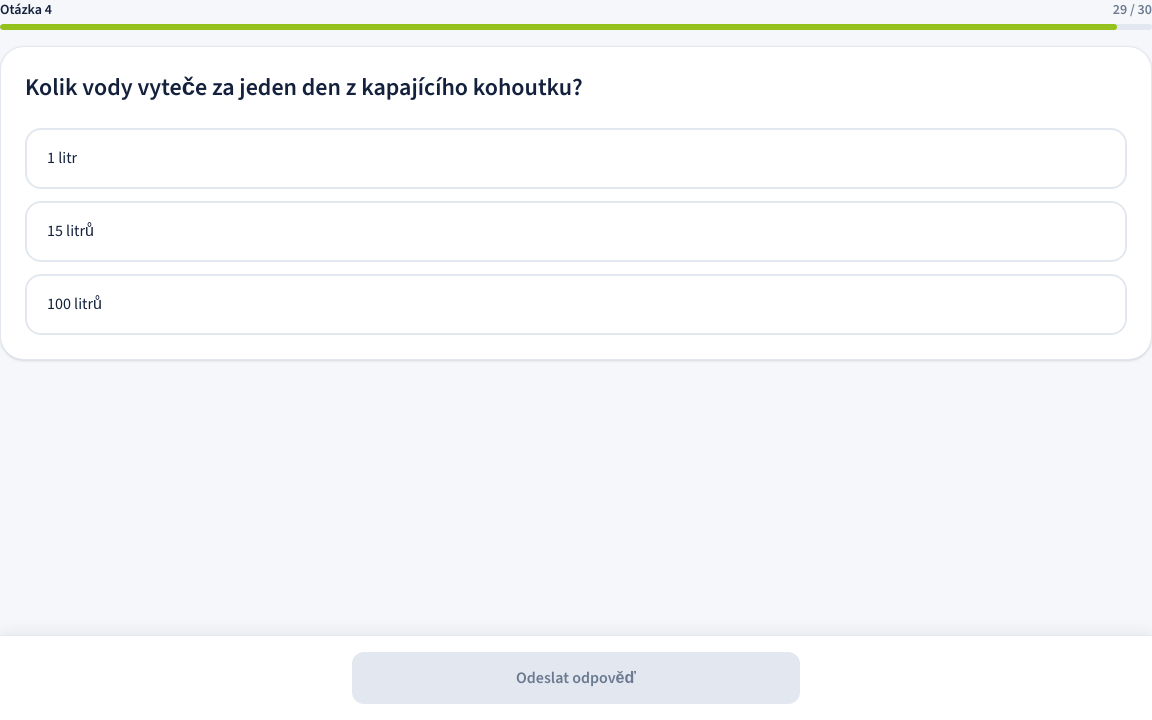
Test case: QuestionView › shows the completion message instead of the per-question hint once the last question is answered
Step 1. Click the radio button "1 litr" → (62, 158), box [25, 128, 1127, 189]
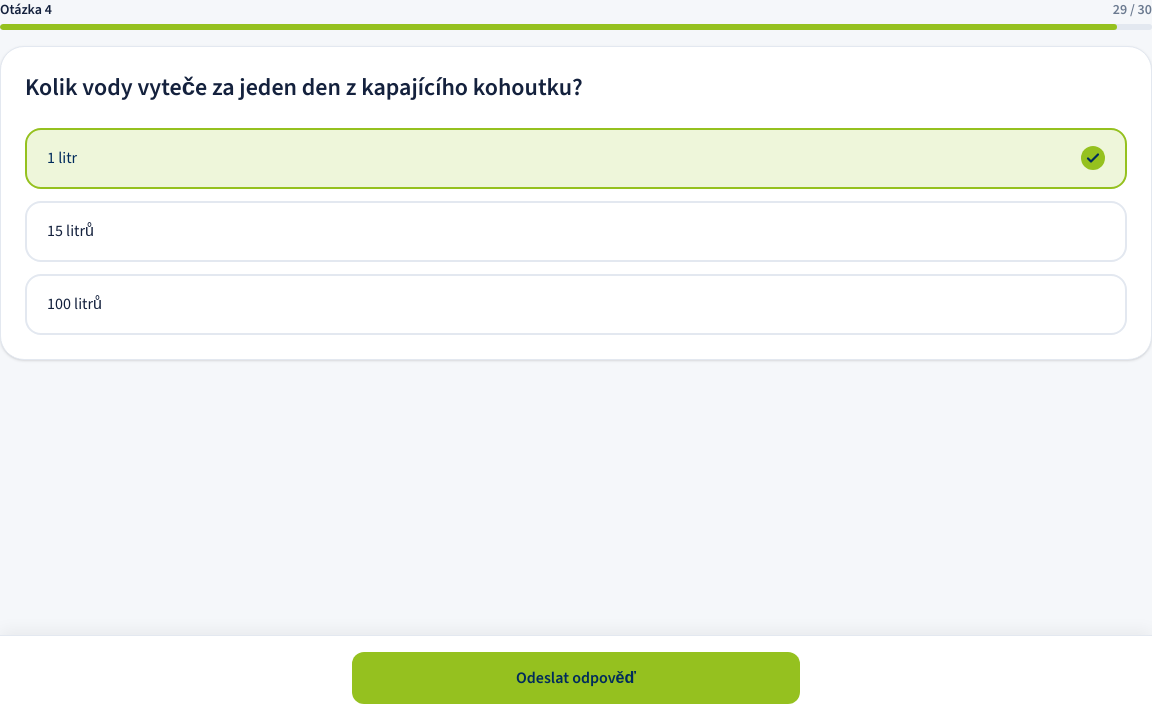
Step 2. Click the button "Odeslat odpověď" → (576, 678), box [352, 652, 800, 704]
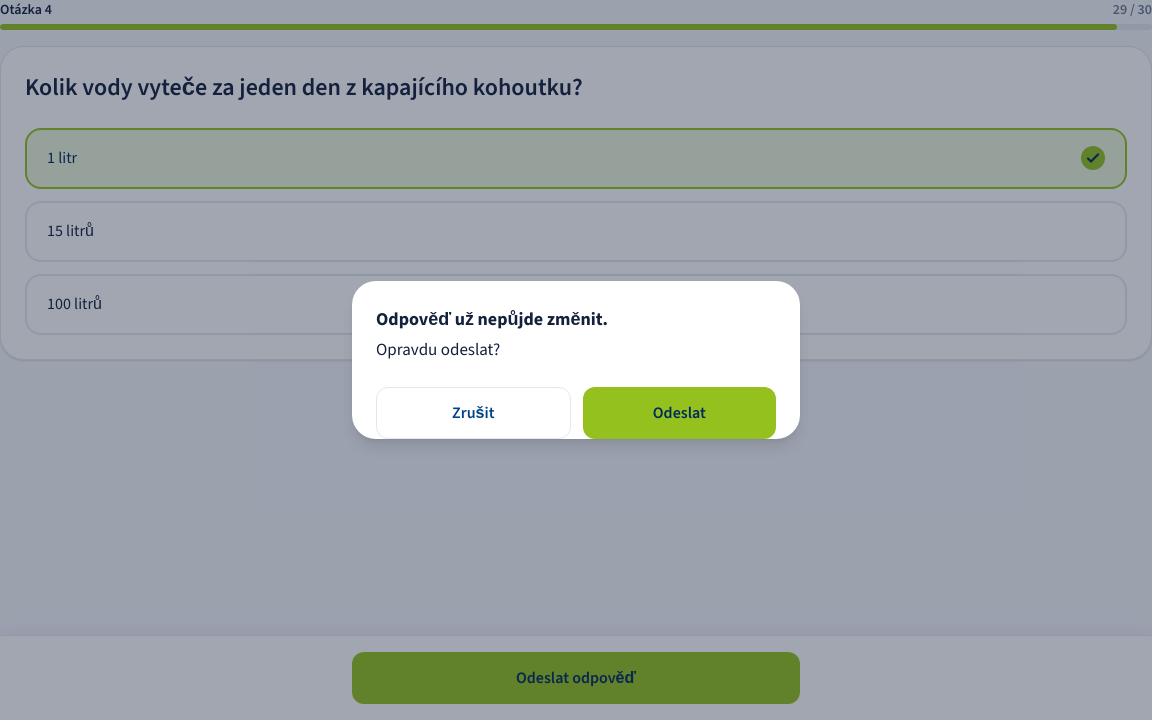
Step 3. Click the button "Odeslat" → (679, 413), box [583, 387, 776, 439]
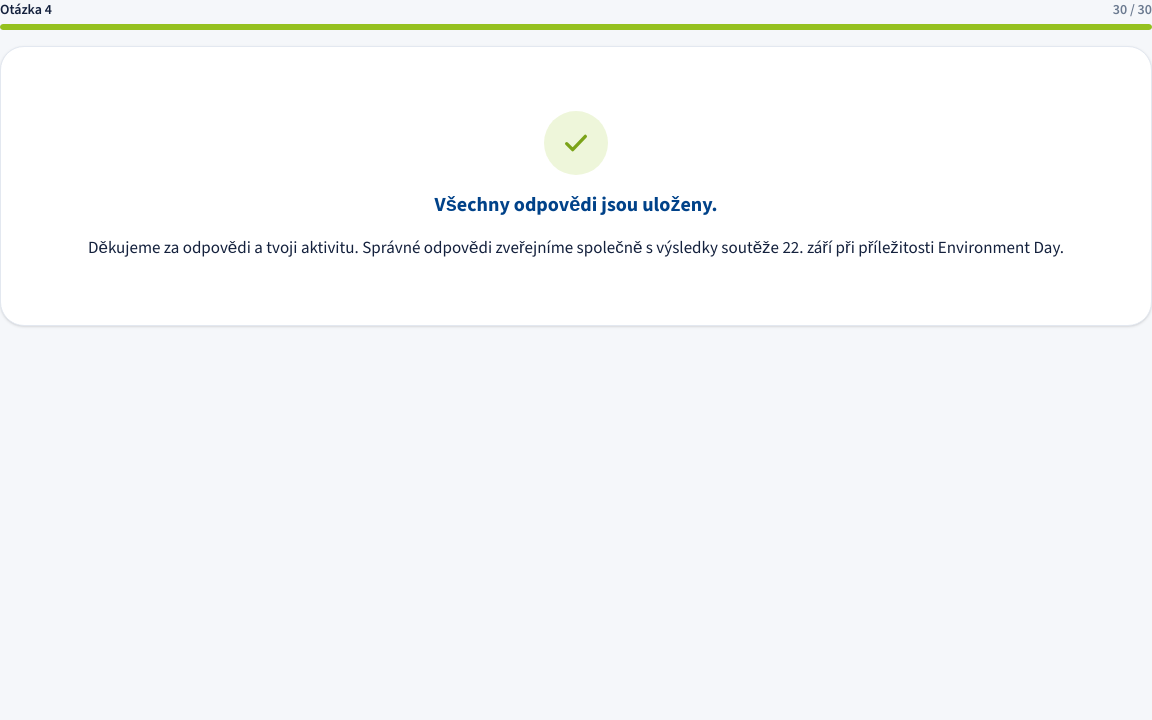
Result: the heading "Všechny odpovědi jsou uloženy." is shown at [435, 191, 717, 219]
Result: the text "Děkujeme za odpovědi a tvoji aktivitu. Správné odpovědi zveřejníme společně s výsledky soutěže 22. září při příležitosti" is shown at [88, 236, 1064, 259]
